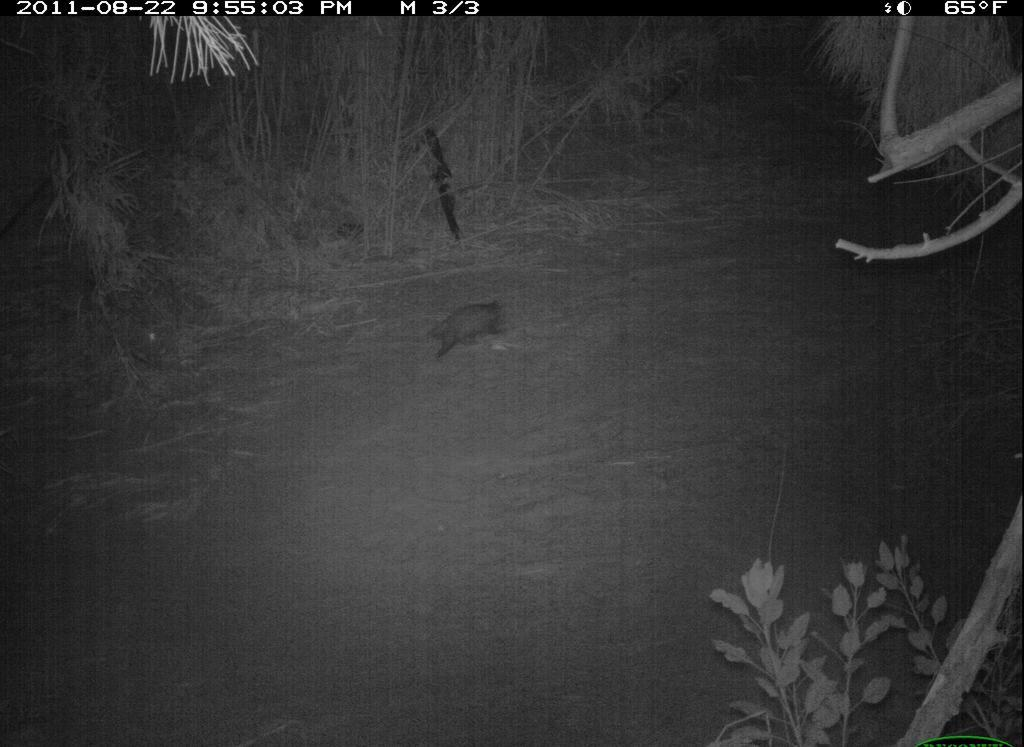opossum: (399, 273, 550, 381)
